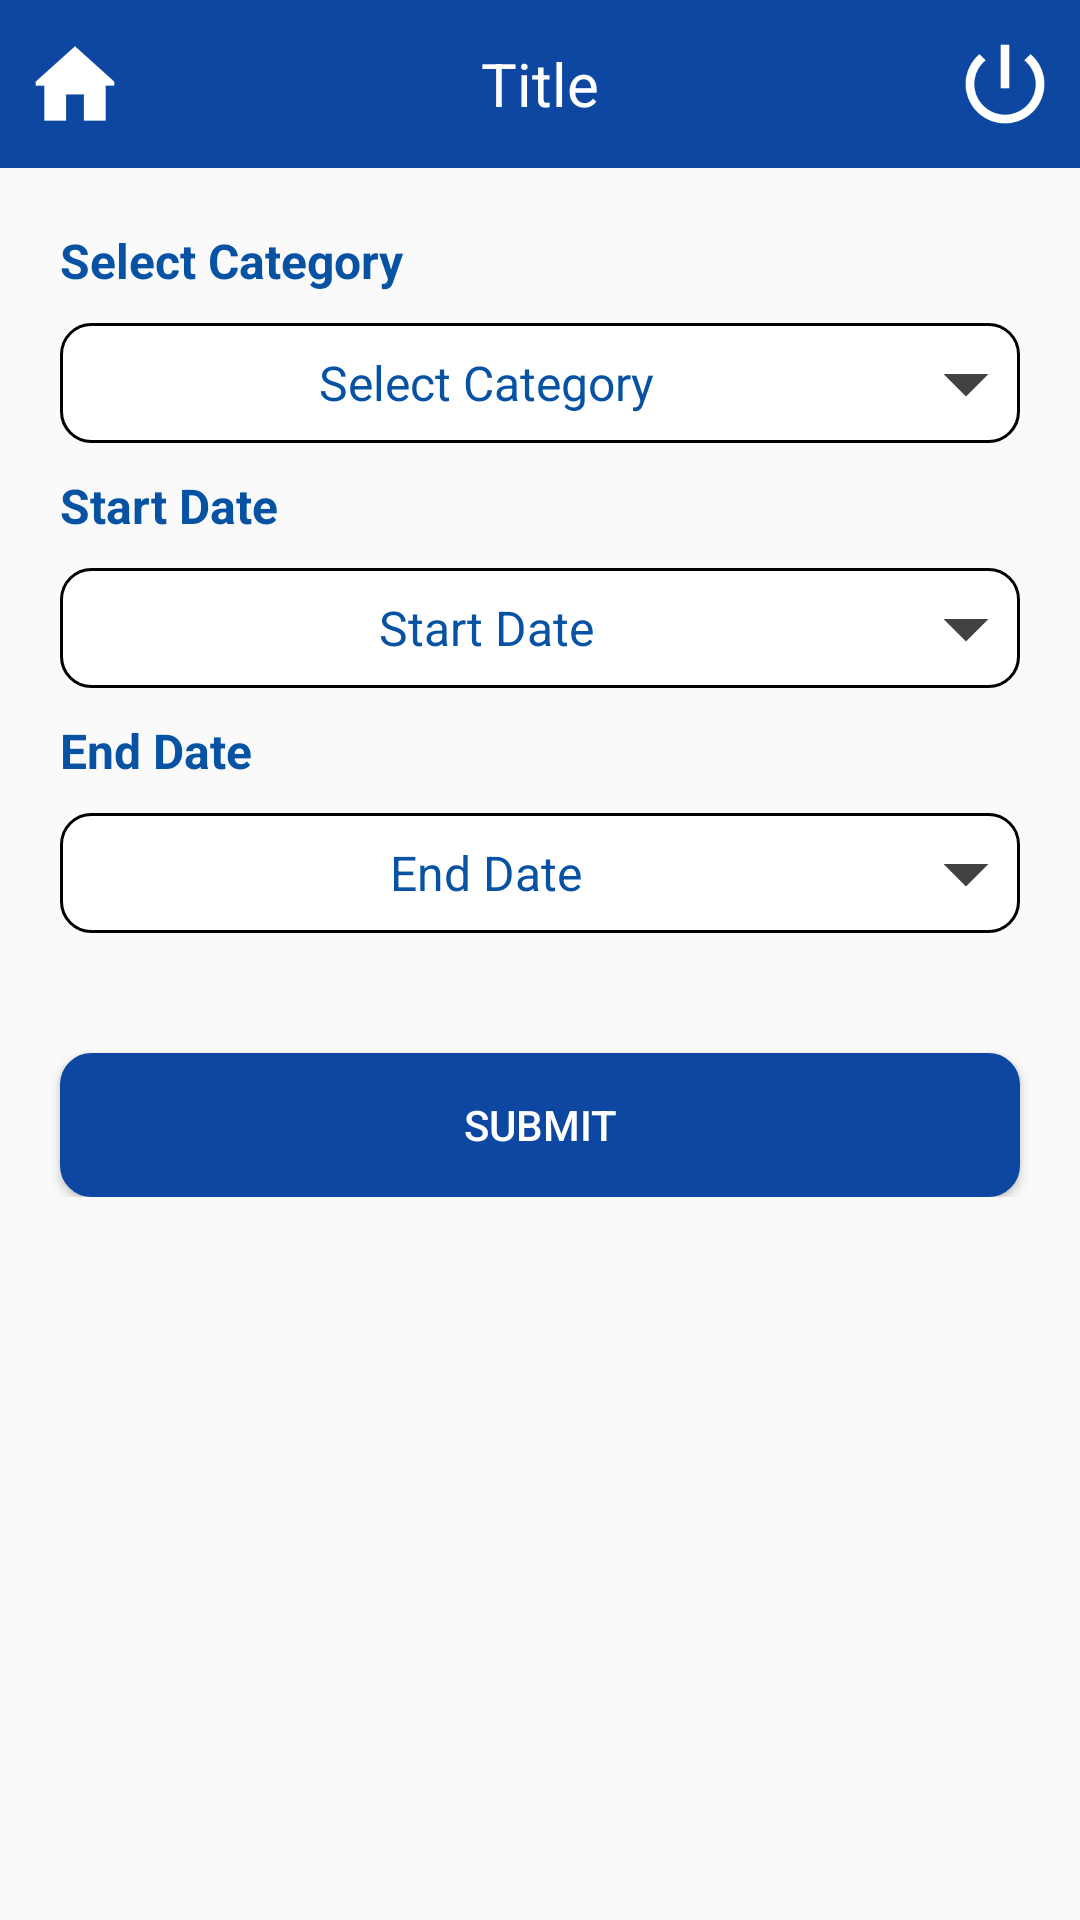

Where icons sit on this 1080×1920 app screen, as bbox(x1, y1, x2, y2):
home: bbox(35, 46, 115, 121)
